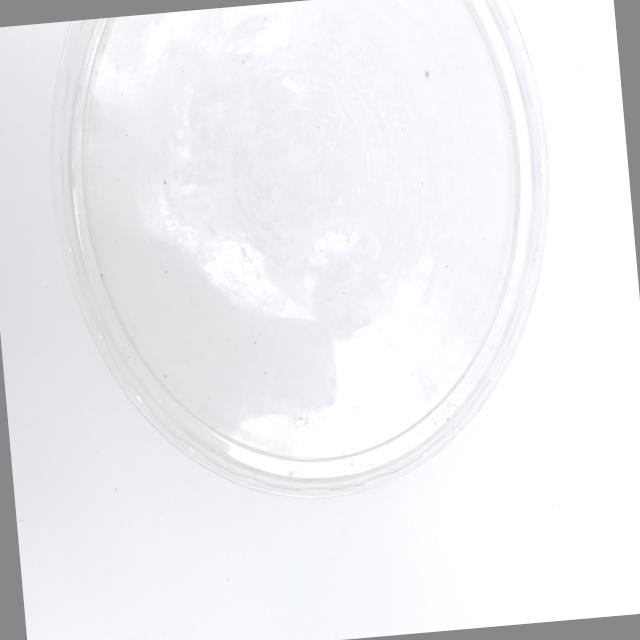Plastic: (34, 0, 594, 552)
